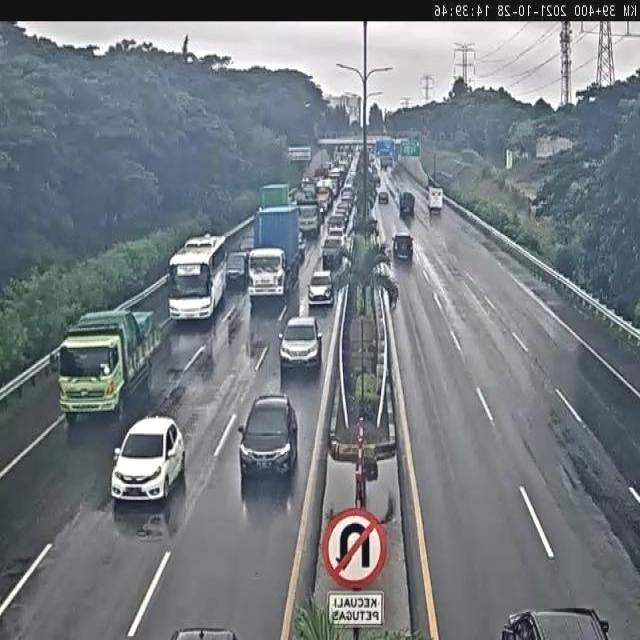Bus: (166, 232, 234, 334)
Car: (107, 416, 198, 520), (235, 390, 302, 503), (277, 322, 327, 378), (306, 266, 335, 314), (392, 232, 414, 263), (323, 240, 343, 269), (328, 212, 346, 241), (379, 191, 388, 205)
Truck: (52, 303, 158, 430), (248, 207, 300, 303), (300, 192, 328, 242), (426, 186, 444, 215), (399, 192, 416, 218)
Van: (226, 249, 251, 292)
